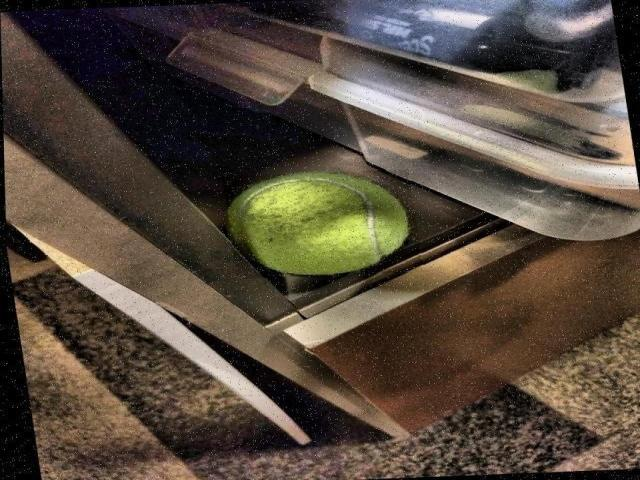tennis-ball: (226, 170, 410, 276)
